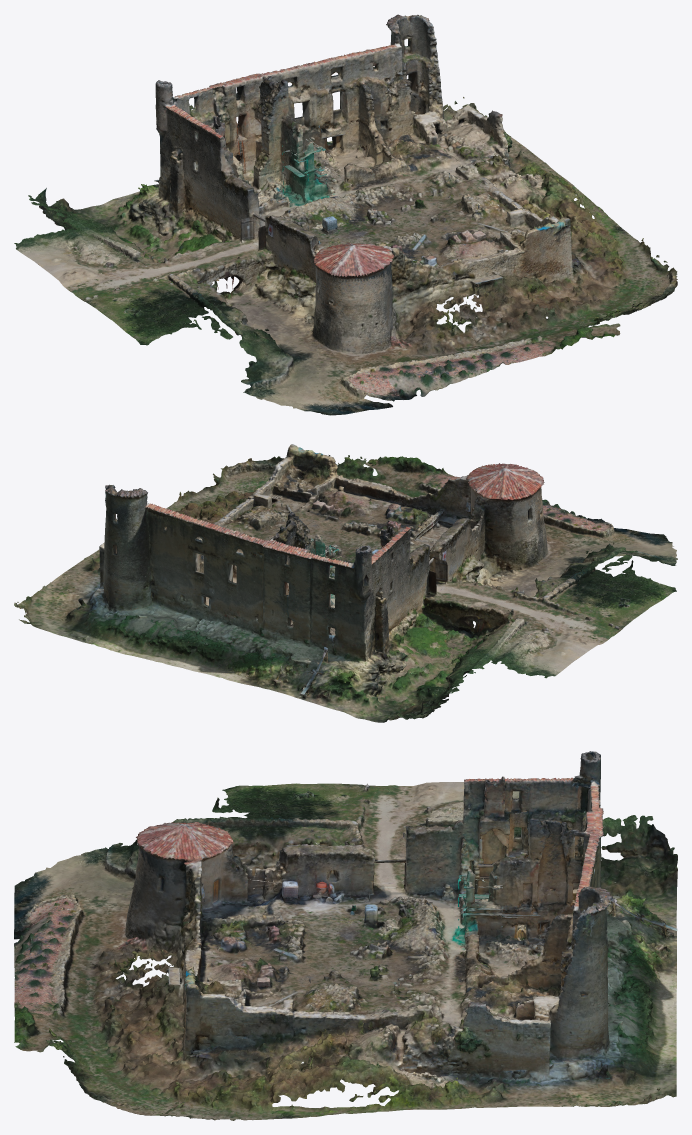
The model's file is scene-medium.glb.
The picture shows the model from 3 angles, top to bottom: view 1: azimuth 30°, elevation 25°; view 2: azimuth 150°, elevation 25°; view 3: azimuth 270°, elevation 25°; orthographic projection. The views are drawn at different scales.
Parts seen in each view (by area): view 1: default50%; view 2: default50%; view 3: default50%.
Part boxes in pixels (x1,y1,x2,y2): default50%: (14,14,677,415); default50%: (14,444,677,722); default50%: (14,751,677,1120).
Bounding box in the file's own units: 54.43 × 15.74 × 50.84.
Materials: 1 (1 with a texture image).
